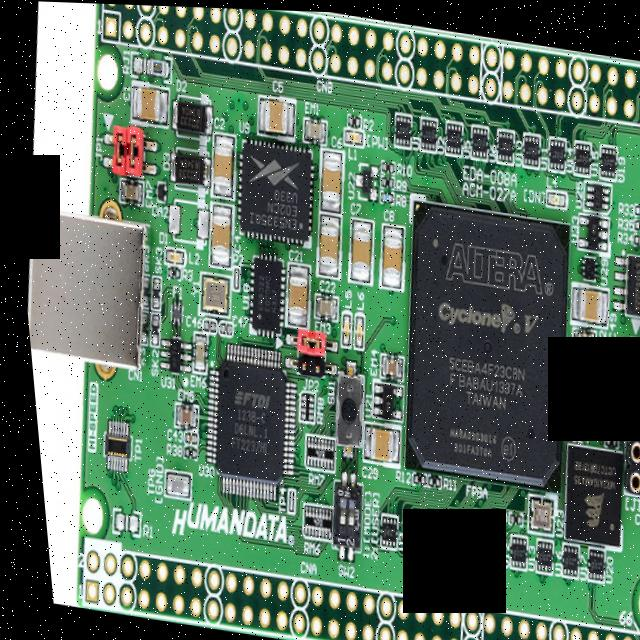-component text- -1 2-: (323, 525, 346, 544)
-component text- -233 834DA-: (173, 98, 201, 126), (171, 151, 198, 179)
-component text- -25R03213 E400222A-: (622, 252, 640, 307)
-component text- -3 J-: (340, 499, 351, 529)
-component text- -ALTERA Cyclone V 5CEBA4F23C8N F BABAU1337A TAIWAN NABAU303016: (404, 228, 553, 463)
-component text- -EN5322 E020MC H337-: (246, 265, 275, 310)
-component text- -EN5336QI E02CN U330-: (238, 177, 297, 228)
-component text- -FTDI 1238-C D6LNL-1 FT2232HL-: (215, 378, 268, 456)
-component text- -MR2A1BAMA35 UCTCT8R13198-: (558, 451, 609, 484)
-component text- -O N-: (325, 480, 340, 493)
-component text- 000: (149, 58, 159, 69)
-component text- 470: (300, 511, 312, 524), (303, 442, 316, 454)
-diode zener array- DA2: (145, 173, 163, 201)
-emi filter- EM1: (298, 113, 325, 140)
-emi filter- EM2: (562, 319, 591, 349)
-emi filter- EM3: (305, 289, 332, 316)
-emi filter- EM4: (369, 347, 397, 375)
-emi filter- EM5: (162, 397, 191, 425)
-emi filter- EM6: (182, 327, 203, 370)
-emi filter- EM7: (113, 174, 140, 202)
-resistor jumper- RJ1: (124, 46, 171, 78)
-resistor network- RM6: (288, 498, 324, 536)
-resistor network- RM7: (291, 428, 328, 468)
-resistor network- RM8: (287, 386, 308, 418)
-test point- P2: (223, 262, 236, 289)
-test point- TP4: (274, 483, 287, 509)
-test point- TPG: (151, 463, 183, 497)
2016: (598, 345, 614, 360)
2024: (159, 260, 176, 277)
2025: (596, 374, 612, 388)
2031: (594, 401, 610, 415)
2033: (593, 428, 609, 442)
2045: (628, 211, 640, 224)
2066: (171, 440, 189, 458)
2211: (374, 184, 390, 198)
2222: (375, 170, 391, 185)
2242: (311, 465, 360, 557)
2249: (171, 372, 181, 385)
2306: (453, 172, 515, 200)
2349: (516, 180, 541, 199)
2355: (453, 154, 516, 183)
2376: (140, 452, 157, 501)
2382: (72, 378, 94, 450)
2400: (612, 488, 640, 509)
2509: (360, 125, 385, 144)
2644: (345, 484, 367, 556), (90, 10, 105, 34), (62, 578, 72, 598)
2700: (352, 484, 374, 558), (64, 548, 74, 568)
2768: (603, 599, 622, 620)
2844: (117, 79, 130, 101)
2955: (208, 110, 223, 128)
2967: (279, 241, 299, 259)
2978: (309, 273, 330, 292)
3047: (348, 459, 370, 478)
3153: (226, 229, 237, 250)
3178: (155, 424, 175, 439)
3185: (221, 307, 242, 326)
3187: (598, 304, 612, 335)
3188: (266, 73, 283, 91)
3199: (323, 128, 340, 146)
3210: (343, 196, 358, 213)
3221: (376, 202, 391, 217)
3250: (117, 365, 136, 381)
3251: (621, 504, 640, 522)
3257: (285, 554, 307, 572)
3258: (310, 70, 332, 91)
3269: (150, 223, 163, 243)
3280: (171, 72, 186, 92)
3287: (155, 146, 168, 169)
3296: (144, 199, 165, 215)
3339: (297, 90, 319, 113)
3340: (587, 320, 601, 352)
3341: (303, 312, 326, 332)
3342: (359, 341, 373, 373)
3343: (165, 384, 188, 400)
3344: (179, 368, 198, 386)
3345: (136, 175, 151, 206)
3430: (452, 477, 479, 495)
3452: (154, 492, 286, 551)
3521: (89, 132, 101, 160)
3527: (291, 368, 313, 390)
3561: (341, 140, 356, 157)
3563: (179, 246, 196, 263)
3565: (540, 166, 554, 185)
3566: (334, 281, 348, 307)
3567: (347, 284, 359, 308)
3648: (224, 248, 239, 263)
3766: (128, 517, 143, 537)
3767: (390, 156, 409, 174)
3778: (430, 470, 447, 488)
3789: (383, 463, 402, 480)
3800: (478, 501, 497, 519)
3877: (357, 110, 373, 128)
3976: (597, 332, 618, 348)
3985: (173, 263, 187, 280)
3986: (595, 359, 616, 378)
3993: (595, 386, 612, 402)
3997: (593, 412, 612, 428)
4001: (611, 192, 630, 210)
4006: (607, 222, 630, 240)
4010: (609, 209, 631, 226)
4032: (153, 437, 175, 456)
4179: (387, 187, 402, 203)
4190: (388, 171, 404, 188)
4208: (115, 44, 131, 73)
4215: (288, 534, 310, 554)
4216: (295, 466, 316, 485)
4217: (303, 391, 317, 422)
4249: (139, 344, 153, 375)
4250: (144, 240, 160, 273)
4266: (316, 374, 328, 401)
4270: (323, 555, 344, 577)
4303: (121, 433, 134, 460)
4312: (637, 167, 640, 198)
4317: (263, 481, 277, 513)
4324: (133, 462, 147, 494)
4341: (406, 128, 417, 145)
4342: (507, 132, 521, 163)
4343: (533, 138, 545, 166)
4344: (487, 533, 501, 564)
4345: (513, 537, 526, 567)
4346: (559, 140, 572, 169)
4347: (584, 142, 597, 172)
4348: (539, 540, 553, 571)
4349: (564, 544, 578, 576)
4350: (231, 277, 246, 309)
4351: (609, 146, 624, 177)
4352: (429, 127, 444, 151)
4353: (590, 547, 604, 580)
4354: (352, 387, 365, 415)
4355: (339, 162, 353, 196)
4356: (541, 501, 555, 533)
4357: (559, 419, 581, 439)
4358: (566, 170, 581, 205)
4359: (637, 313, 640, 332)
4360: (553, 344, 567, 377)
4361: (552, 377, 566, 411)
4362: (589, 249, 605, 281)
4363: (383, 523, 396, 548)
4364: (186, 458, 205, 477)
4365: (149, 370, 168, 386)
4366: (561, 206, 575, 237)
4367: (410, 529, 421, 551)
4368: (456, 129, 468, 153)
4369: (481, 134, 494, 159)
4370: (434, 532, 447, 555)
4371: (461, 536, 473, 560)
4372: (232, 113, 248, 130)
4422: (182, 275, 195, 295)
4436: (620, 309, 637, 329), (96, 108, 113, 128), (265, 332, 277, 345)
4477: (139, 307, 156, 344)
4478: (140, 272, 157, 310)
button SW1: (317, 352, 362, 458)
capacitor C10: (124, 77, 170, 124)
capacitor C20: (202, 127, 237, 195)
capacitor C210: (274, 256, 309, 324)
capacitor C220: (306, 207, 339, 274)
capacitor C290: (349, 416, 393, 462)
capacitor C40: (197, 197, 232, 266)
capacitor C430: (173, 426, 190, 443)
capacitor C47: (193, 314, 210, 330)
capacitor C48: (209, 315, 226, 334)
capacitor C5: (561, 277, 604, 320)
capacitor C50: (250, 91, 295, 136)
capacitor C60: (309, 142, 343, 210)
capacitor C70: (337, 212, 372, 279)
capacitor C80: (368, 217, 403, 285)
connector CN2: (14, 206, 149, 368)
connector CN3: (601, 328, 640, 492)
connector CNB: (65, 539, 640, 640)
connector CON2: (96, 3, 640, 123)
connector JP20: (273, 345, 332, 377)
diode D21: (170, 90, 210, 135)
diode D4: (165, 143, 208, 188)
ic F1: (161, 298, 178, 322)
ic FPGA: (373, 190, 583, 489)
ic TP1: (86, 409, 127, 473)
ic U1: (387, 106, 410, 143)
ic U10: (490, 122, 512, 158)
ic U11: (516, 124, 539, 162)
ic U12: (470, 523, 492, 560)
ic U13: (495, 529, 518, 565)
ic U14: (540, 129, 565, 166)
ic U15: (567, 132, 589, 170)
ic U16: (521, 533, 544, 568)
ic U17: (547, 536, 569, 572)
ic U18: (238, 251, 282, 330)
ic U19: (592, 135, 616, 174)
ic U2: (413, 110, 435, 146)
ic U20: (572, 539, 595, 577)
ic U21: (361, 375, 397, 416)
ic U22: (350, 157, 376, 196)
ic U23: (513, 485, 547, 529)
ic U24: (547, 437, 619, 540)
ic U25: (575, 171, 610, 207)
ic U26: (600, 244, 640, 313)
ic U27: (562, 345, 596, 382)
ic U28: (561, 379, 594, 414)
ic U29: (573, 247, 591, 276)
ic U3: (366, 508, 388, 546)
ic U30: (182, 335, 300, 500)
ic U31: (147, 330, 186, 373)
ic U33: (568, 205, 607, 248)
ic U4: (392, 511, 414, 548)
ic U5: (439, 114, 461, 151)
ic U6: (464, 118, 486, 154)
ic U7: (417, 514, 440, 554)
ic U8: (443, 518, 466, 556)
ic U9: (225, 136, 314, 239)
ic Y1: (188, 268, 227, 314)
jumper JP1: (117, 120, 156, 174), (94, 117, 127, 173)
jumper JP2: (276, 320, 333, 354)
led L1: (338, 124, 360, 142)
led L2: (156, 243, 180, 263)
led L4: (540, 183, 561, 201)
led L5: (331, 305, 346, 344)
led L6: (343, 307, 359, 345)
pads D1: (158, 192, 207, 242)
pads R1: (99, 505, 131, 532)
pads R33: (629, 197, 640, 211)
pads R34: (627, 226, 640, 240)
resistor R100: (375, 154, 391, 169)
resistor R110: (415, 468, 431, 482)
resistor R120: (400, 467, 416, 481)
resistor R130: (497, 507, 511, 520)
resistor R20: (342, 106, 359, 123)
